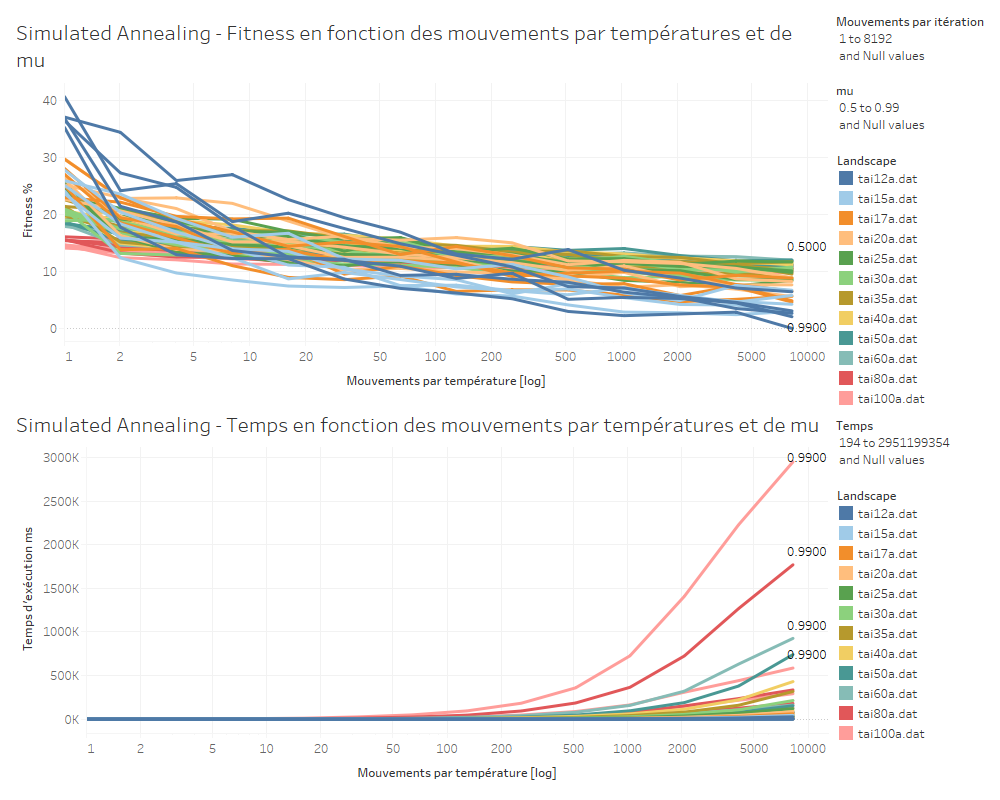

This screenshot's page, from the dashboard's own definition file:
{"tool":"tableau","page":{"name":"Simulated Annealing","canvas":[1000,800],"ordinal":2},"visuals":[{"type":"worksheet","title":"Simulated Annealing - Fitness","mark":"Line","rows":["Calculation_1762314897165549572"],"cols":["F7"],"box":[8,8,824,392]},{"type":"filter","title":"Simulated Annealing - Fitness","param":"[federated.11cgvjm1dvso7714uon5j07z6p7i].[none:F7:qk]","box":[832,8,160,69]},{"type":"filter","title":"Simulated Annealing - Fitness","param":"[federated.11cgvjm1dvso7714uon5j07z6p7i].[none:F5:qk]","box":[832,77,160,69]},{"type":"legend","title":"Simulated Annealing - Fitness","param":"[federated.11cgvjm1dvso7714uon5j07z6p7i].[none:F1:nk]","box":[832,146,160,86]},{"type":"filter","title":"Simulated Annealing - Temps","param":"[federated.11cgvjm1dvso7714uon5j07z6p7i].[none:F11:qk]","box":[832,232,160,69]},{"type":"legend","title":"Simulated Annealing - Temps","param":"[federated.11cgvjm1dvso7714uon5j07z6p7i].[none:F1:nk]","box":[832,301,160,86]},{"type":"worksheet","title":"Simulated Annealing - Temps","mark":"Line","rows":["Calculation_1762314897165619205"],"cols":["F7"],"box":[8,400,824,392]}]}

Visuals, with their boxes in screenshot pixels (x1, y1, x2, y2), scaled from the page's 1000x800 canvas onto the 1000x800 screenshot:
"Simulated Annealing - Fitness" worksheet (Line marks): 8,8,832,400
"Simulated Annealing - Fitness" filter: 832,8,992,77
"Simulated Annealing - Fitness" filter: 832,77,992,146
"Simulated Annealing - Fitness" legend: 832,146,992,232
"Simulated Annealing - Temps" filter: 832,232,992,301
"Simulated Annealing - Temps" legend: 832,301,992,387
"Simulated Annealing - Temps" worksheet (Line marks): 8,400,832,792
